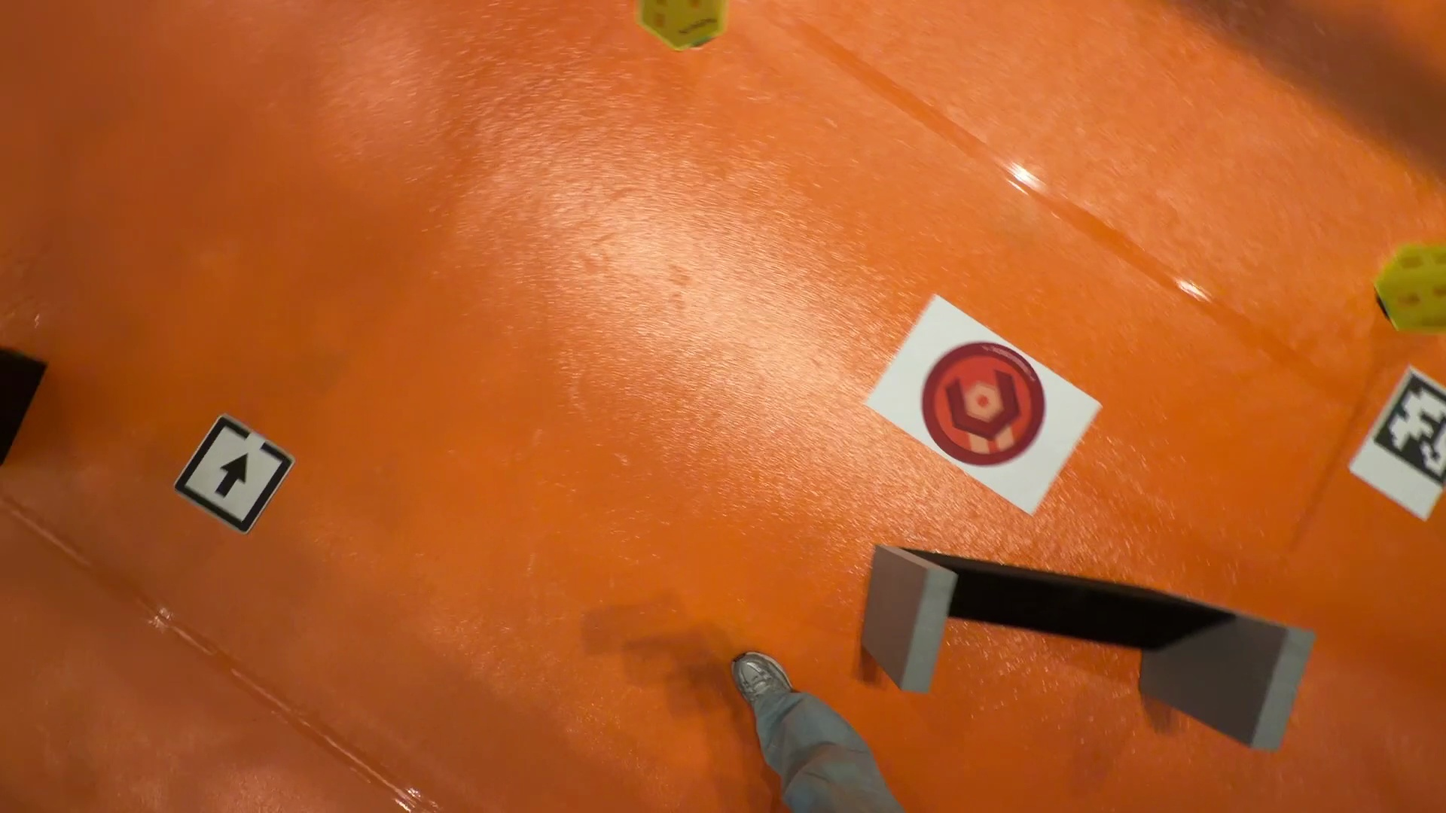landing_pad: (922, 340, 1045, 471)
